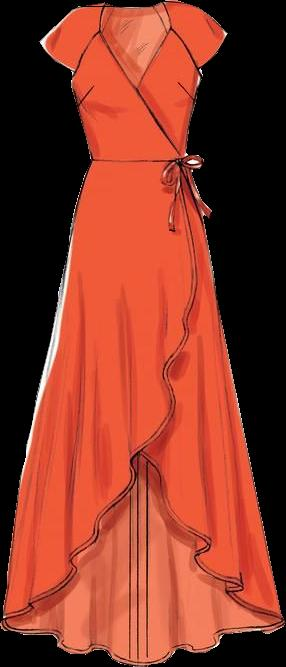Bodice: (71, 1, 202, 164)
Hemline: (0, 167, 201, 623), (0, 446, 285, 627)
Neckline: (94, 0, 179, 95)
Skirt: (0, 161, 284, 666)
Sleeve: (158, 0, 227, 68), (39, 3, 102, 70)
Sleeveline: (165, 0, 206, 73), (69, 2, 108, 73)
